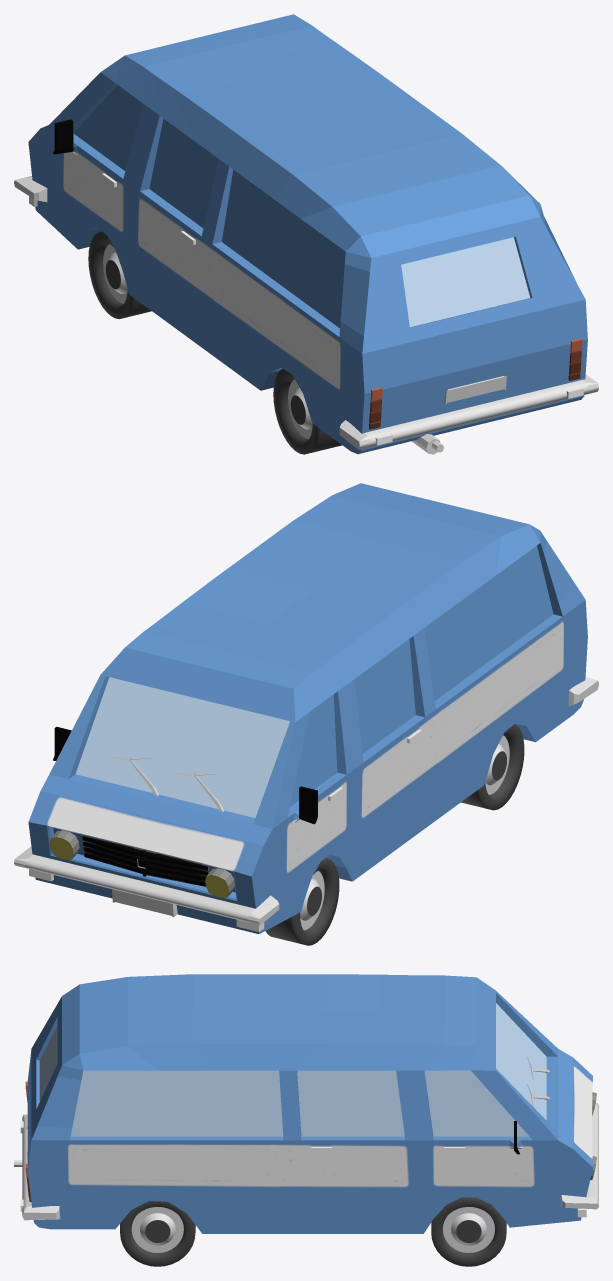
The model's file is GameReadyModel.fbx.
3 views of the same model, one above another, from view 1: azimuth 30°, elevation 25°; view 2: azimuth 150°, elevation 25°; view 3: azimuth 270°, elevation 25° (orthographic). The views are drawn at different scales.
Visible parts, largest first — view 1: Cube.054, Cube.057, Cylinder.017, Cylinder.021, Cube.058; view 2: Cube.054, Cube.056, Cylinder.021, Cylinder.017, Cube.058; view 3: Cube.054, Cylinder.018, Cylinder.016, Cube.056, Cube.057.
Part boxes in pixels (box(x1,y1,x2,y2)): Cube.054: box(28, 14, 587, 454); Cube.057: box(339, 374, 598, 449); Cylinder.017: box(273, 369, 341, 454); Cylinder.021: box(88, 231, 151, 319); Cube.058: box(444, 373, 506, 404); Cube.054: box(28, 483, 587, 933); Cube.056: box(14, 846, 279, 925); Cylinder.021: box(265, 858, 339, 945); Cylinder.017: box(461, 724, 524, 810); Cube.058: box(112, 889, 177, 917); Cube.054: box(20, 974, 596, 1233); Cylinder.018: box(431, 1197, 506, 1266); Cylinder.016: box(120, 1201, 195, 1266); Cube.056: box(561, 1103, 598, 1209); Cube.057: box(22, 1114, 60, 1220).
Size of the model in its own units: 10.08 by 23.24 by 9.45.
4 materials, 2 textured.
